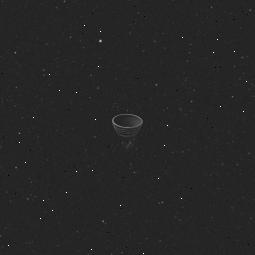debris: (106, 104, 151, 161)
